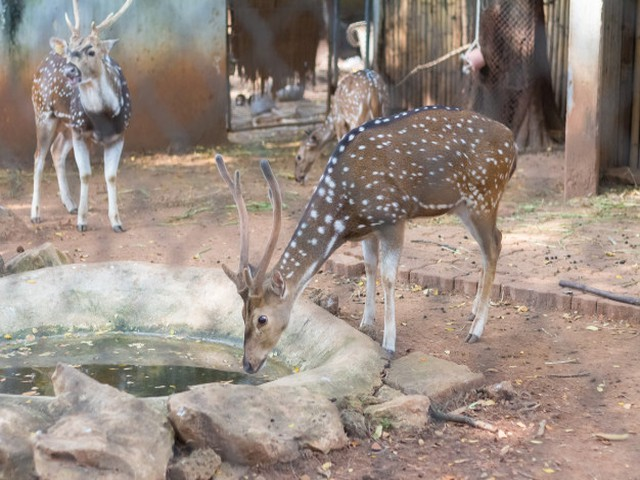deer: (212, 105, 523, 380), (23, 3, 139, 236), (294, 105, 328, 183)
